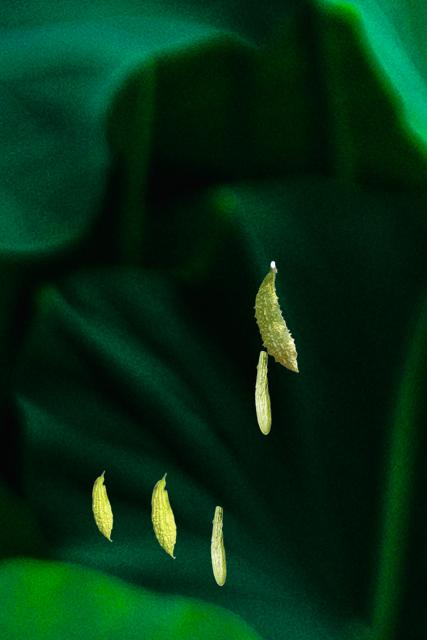ampalaya: (253, 260, 299, 372), (151, 472, 176, 559), (91, 470, 113, 542), (254, 350, 271, 435), (210, 505, 226, 586)
